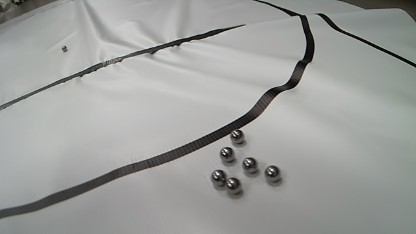ironball: (225, 177, 242, 194), (210, 169, 227, 186), (264, 165, 280, 182), (242, 157, 258, 173), (219, 146, 234, 162), (230, 129, 244, 144), (61, 45, 67, 52)
